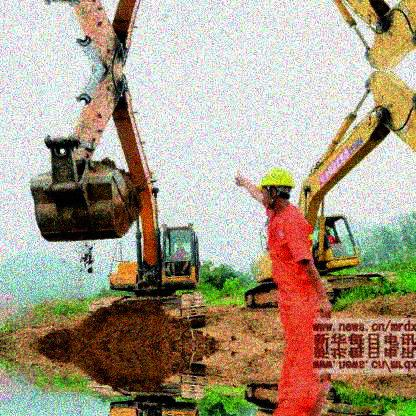helmet: (260, 169, 293, 208), (326, 227, 330, 234)
